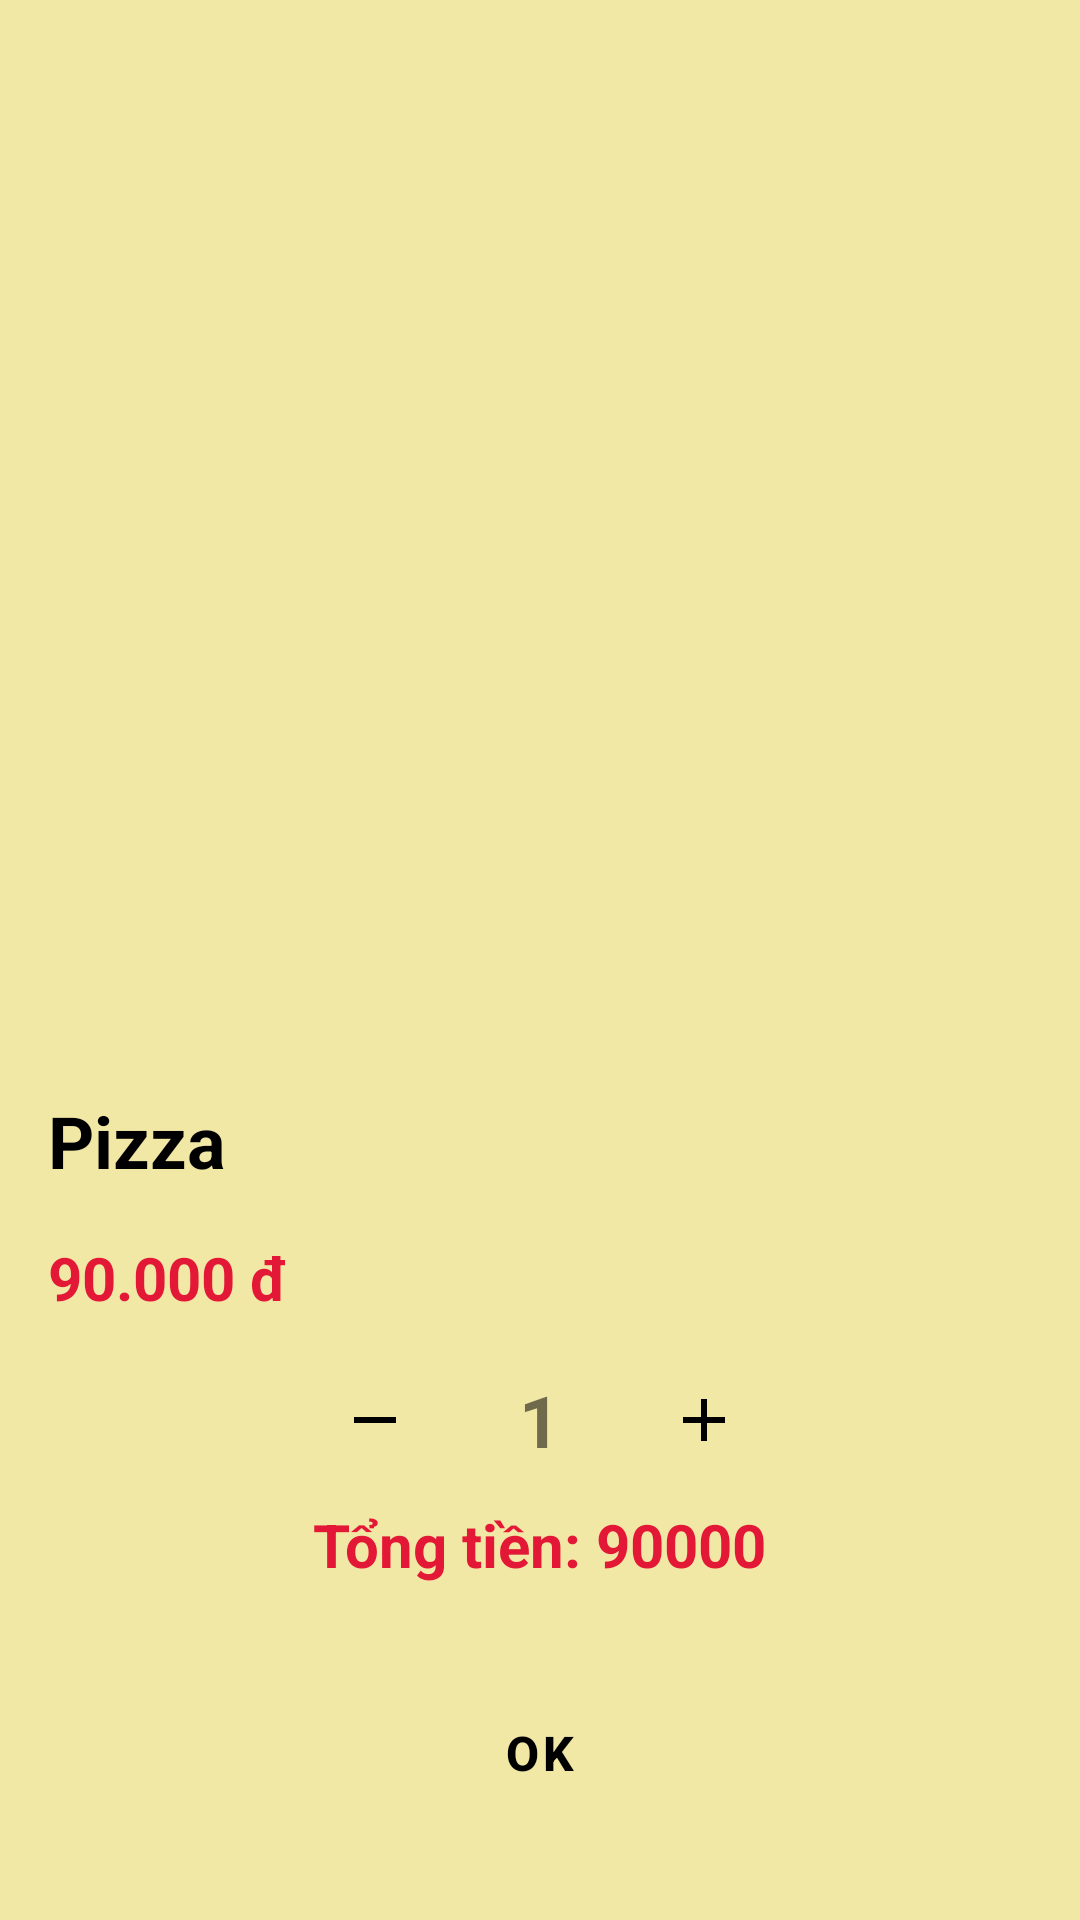

Named icons in this screenshot (1080×1920) and their bounding boxes, {"x1": x1, "y1": y1, "x2": x2, "y2": y2}:
plus: {"x1": 683, "y1": 1399, "x2": 725, "y2": 1441}
